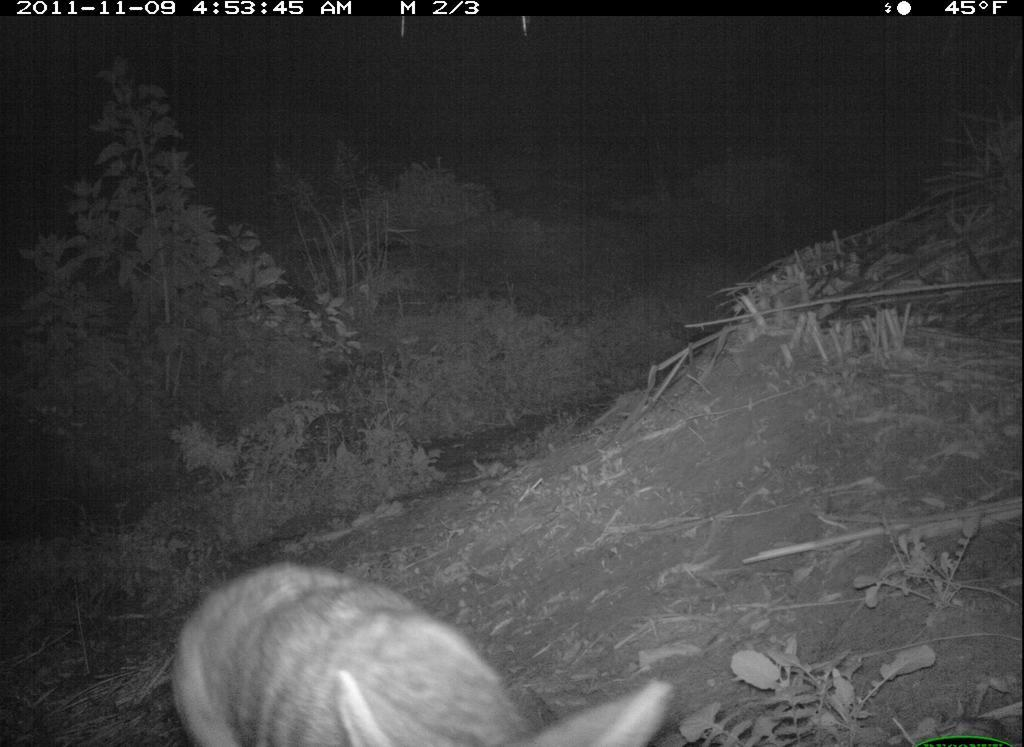coyote: (166, 557, 684, 747)
